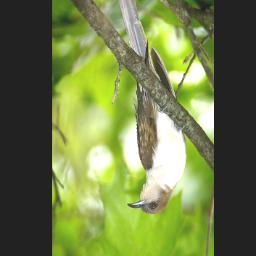Cuckoo: (114, 0, 188, 215)
